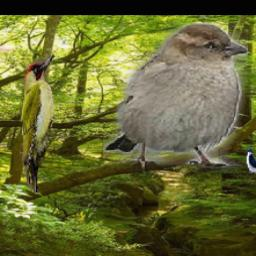Sparrow: (104, 22, 249, 173)
Swallow: (246, 148, 256, 179)
Woodpecker: (20, 55, 59, 194)
